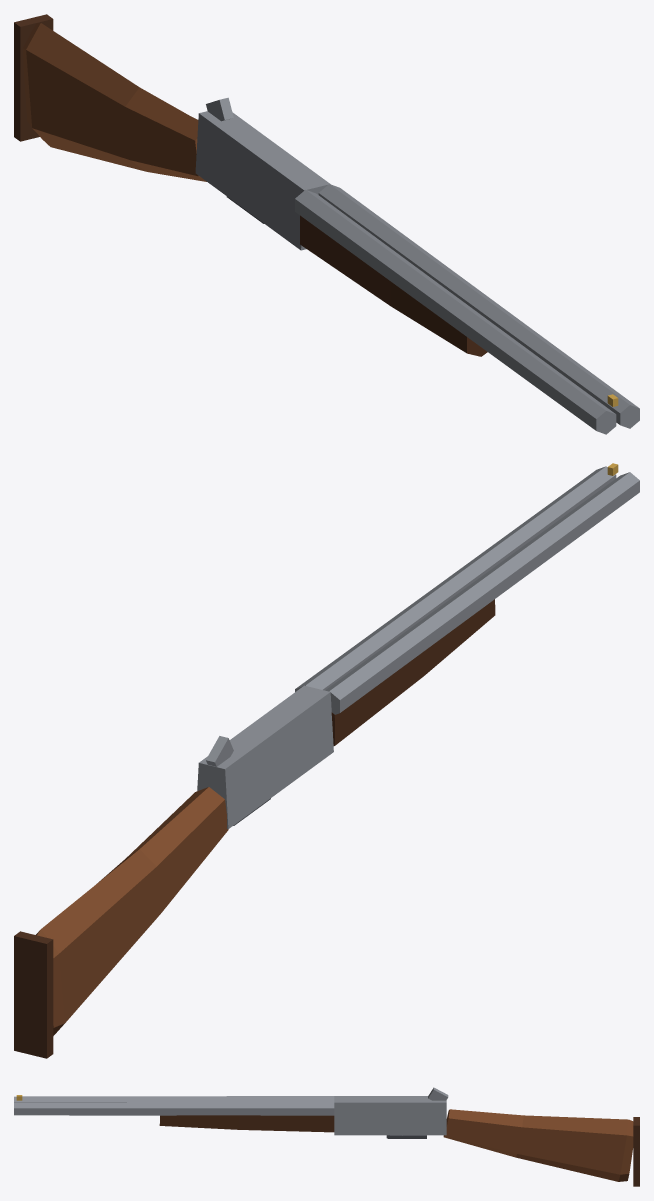
The model's file is SM_Shotgun.fbx.
3 views of the same model, one above another, from view 1: azimuth 30°, elevation 25°; view 2: azimuth 150°, elevation 25°; view 3: azimuth 270°, elevation 25° (orthographic). The views are drawn at different scales.
Visible parts, largest first — view 1: Prop_Shotgun; view 2: Prop_Shotgun; view 3: Prop_Shotgun.
Part boxes in pixels (x1,y1,x2,y2): Prop_Shotgun: (14,14,639,434); Prop_Shotgun: (14,463,639,1058); Prop_Shotgun: (14,1087,639,1186).
Bounding box in the file's own units: 6.17 × 139 × 23.02.
